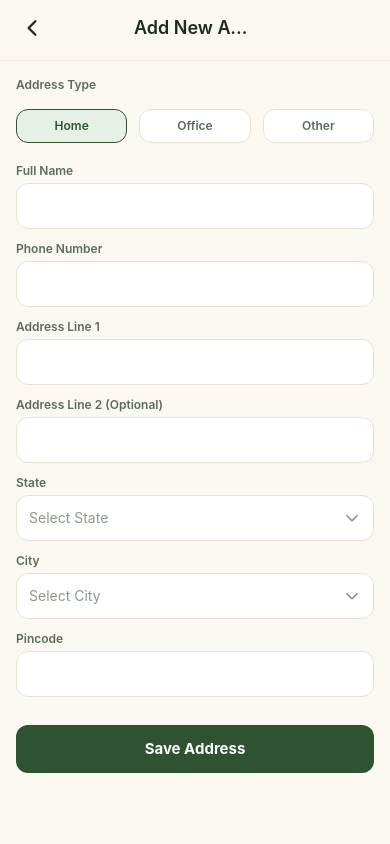
Test: AddEditAddressScreen › blocks save and shows validation errors when required fields are empty
Click the button "Save Address": click(195, 749) [16,725,374,773]
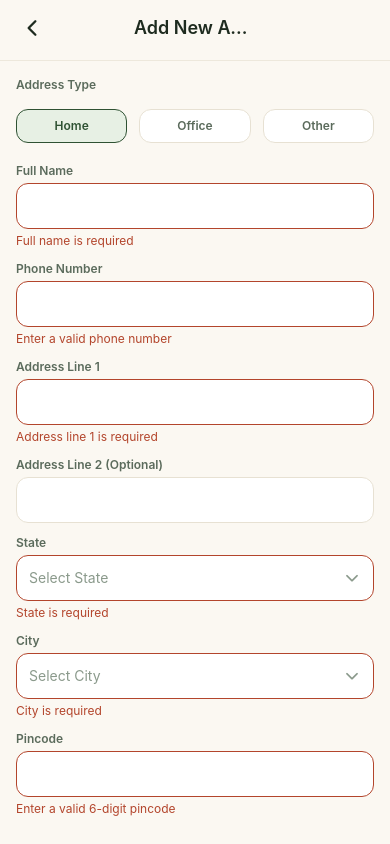
Check: the text "Full name is required" is shown, box [16,233,134,248]
Check: the text "Address line 1 is required" is shown, box [16,429,158,444]
Check: the text "City is required" is shown, box [16,703,102,718]
